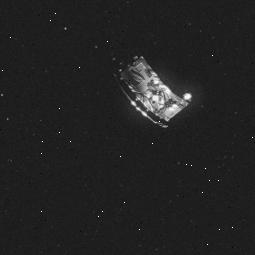lisa_pathfinder: (98, 47, 208, 142)
